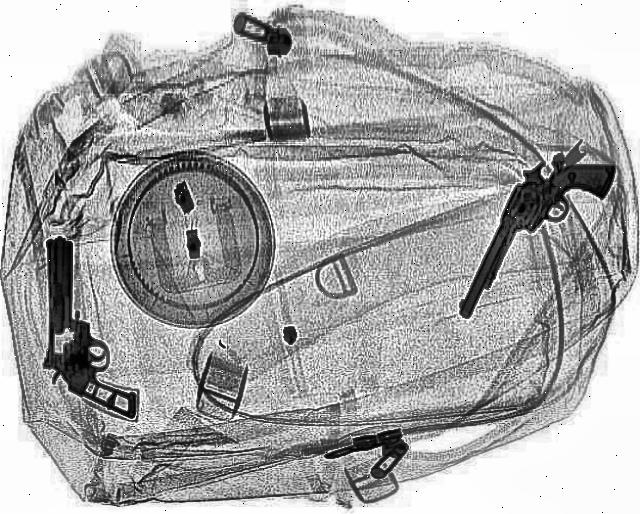Gun: (458, 144, 622, 336), (40, 235, 148, 417)
